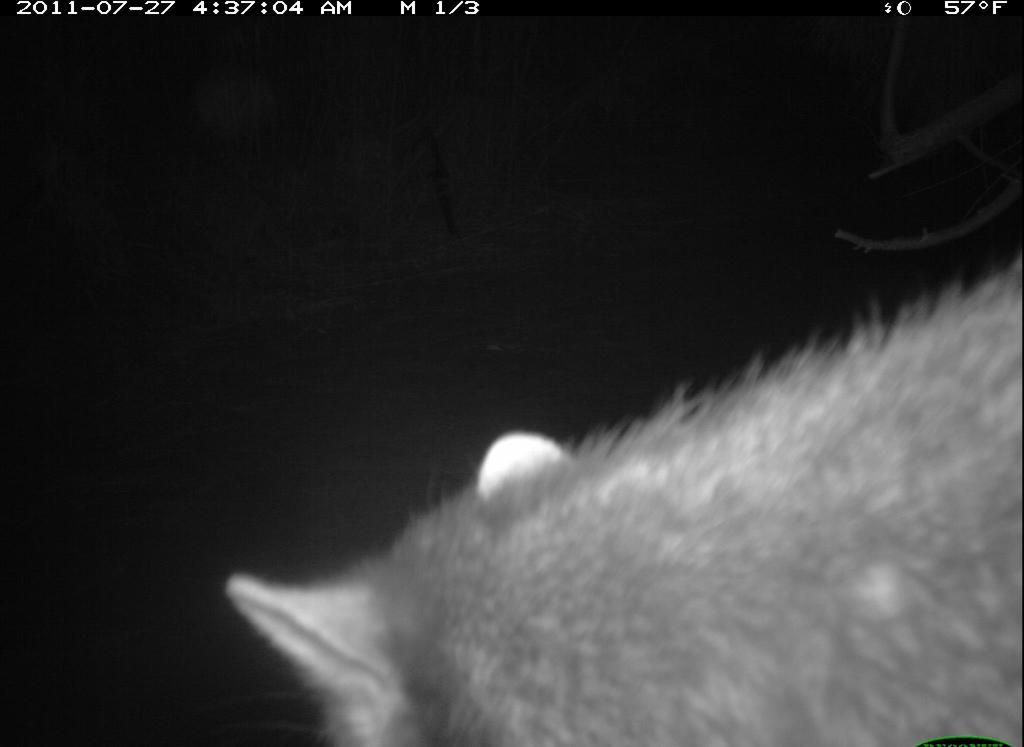raccoon: (219, 242, 1019, 747)
